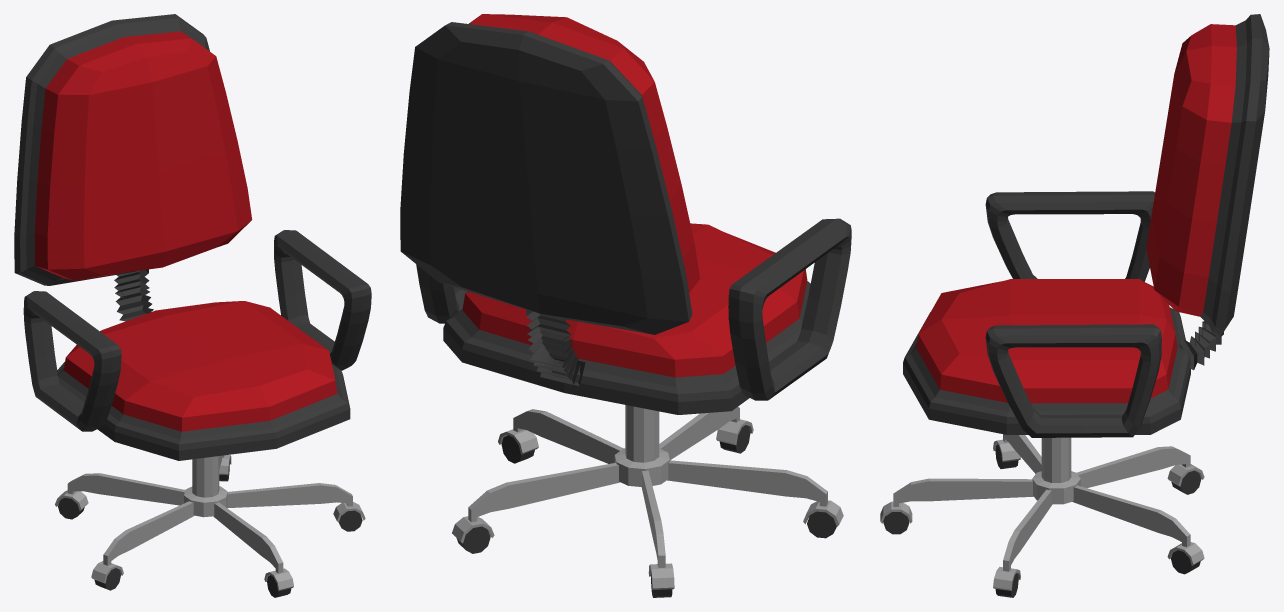
Rendered from OfficeChair.fbx.
3 views of the same model, side by side, from view 1: azimuth 30°, elevation 25°; view 2: azimuth 150°, elevation 25°; view 3: azimuth 270°, elevation 25° (orthographic). The views are drawn at different scales.
Visible parts, largest first — view 1: OfficeChair; view 2: OfficeChair; view 3: OfficeChair.
Boxes of the visible parts, x1,y1,x2,y2 form: OfficeChair: (14,14,371,597); OfficeChair: (400,14,851,597); OfficeChair: (880,14,1269,597).
Bounding box in the file's own units: 72.17 × 113 × 80.72.
